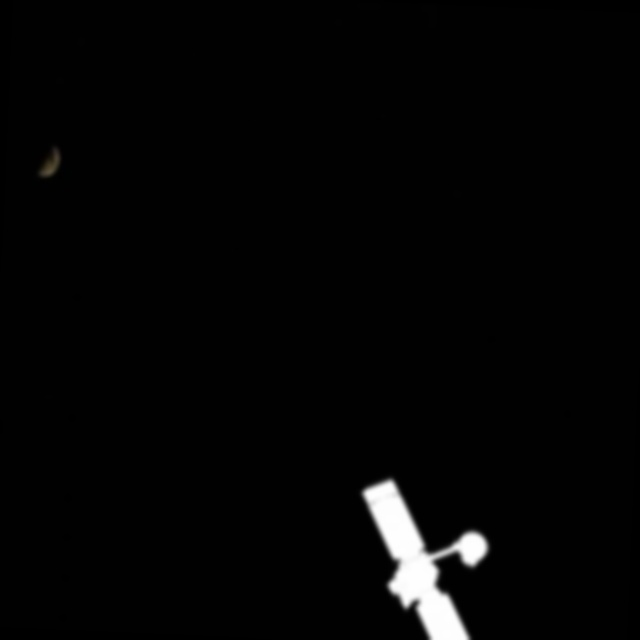satellite: (316, 466, 498, 640)
